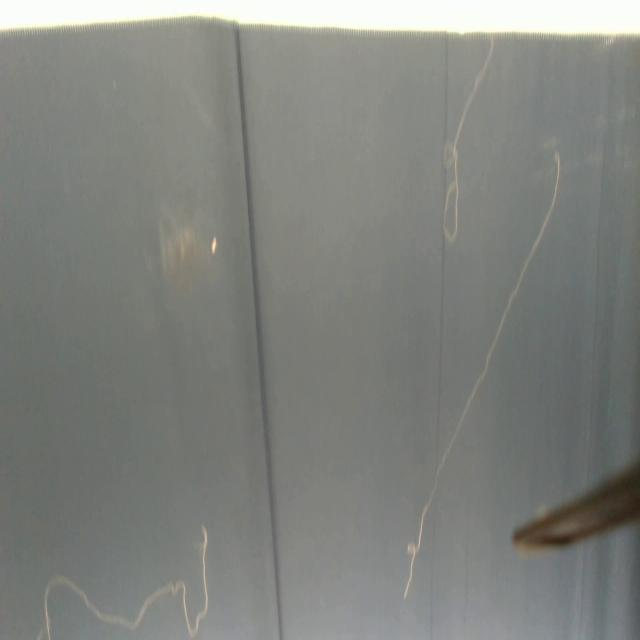hole: (210, 234, 218, 260)
